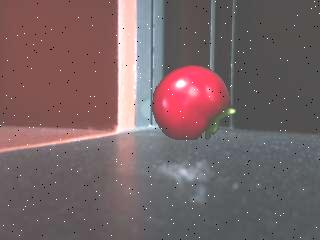Tomato: (153, 66, 235, 142)
